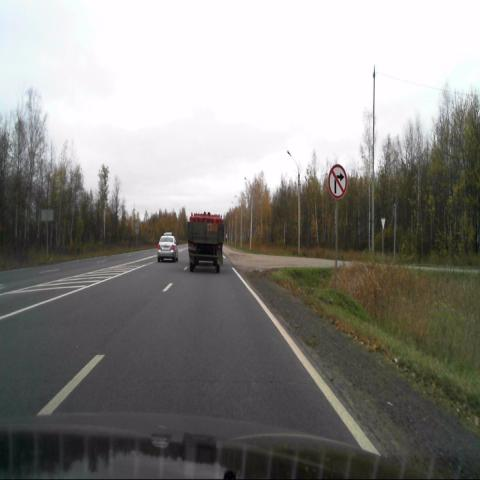3_18: (328, 163, 348, 200)
